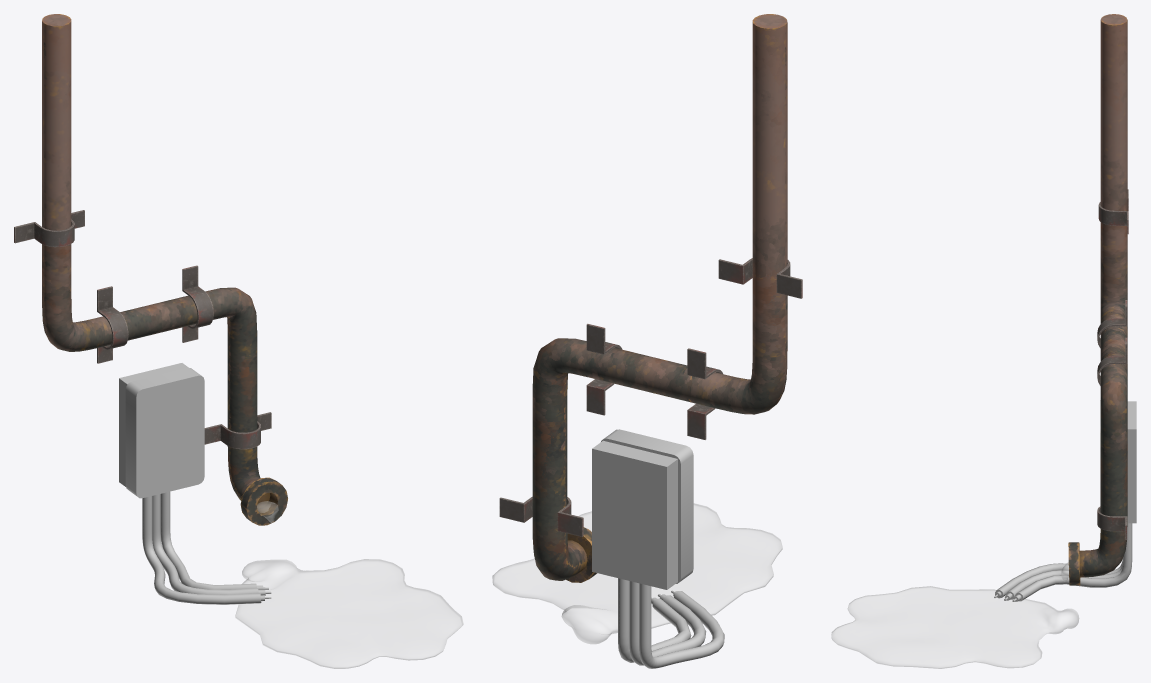
Rendered from Electricity.fbx.
3 views of the same model, side by side, from view 1: azimuth 30°, elevation 25°; view 2: azimuth 150°, elevation 25°; view 3: azimuth 270°, elevation 25° (orthographic). The views are drawn at different scales.
Parts seen in each view (by area): view 1: Cylinder.014, Retopo_Mball.036, Cube.009, NurbsPath, NurbsPath.001, NurbsPath.002, Plane.004, Plane.003, Plane.007, Plane.006; view 2: Cylinder.014, Cube.009, Retopo_Mball.036, NurbsPath, NurbsPath.001, NurbsPath.002, Plane.007, Plane.004, Plane.006, Plane.003; view 3: Cylinder.014, Retopo_Mball.036, NurbsPath.002, Cube.009, NurbsPath, NurbsPath.001, Plane.007, Plane.006.
Part boxes in pixels (<box>): Cylinder.014: <box>42,14,287,525</box>; Retopo_Mball.036: <box>235,501,463,668</box>; Cube.009: <box>119,363,204,498</box>; NurbsPath: <box>142,496,271,604</box>; NurbsPath.001: <box>152,494,271,595</box>; NurbsPath.002: <box>160,491,268,589</box>; Plane.004: <box>182,265,213,342</box>; Plane.003: <box>97,286,128,363</box>; Plane.007: <box>14,210,84,247</box>; Plane.006: <box>204,412,271,449</box>; Cylinder.014: <box>532,14,787,582</box>; Cube.009: <box>592,429,693,589</box>; Retopo_Mball.036: <box>492,503,782,644</box>; NurbsPath: <box>639,583,724,668</box>; NurbsPath.001: <box>629,581,706,665</box>; NurbsPath.002: <box>618,578,691,662</box>; Plane.007: <box>718,258,802,298</box>; Plane.004: <box>586,323,622,415</box>; Plane.006: <box>499,496,583,536</box>; Plane.003: <box>687,348,722,439</box>; Cylinder.014: <box>1068,14,1127,585</box>; Retopo_Mball.036: <box>831,562,1079,668</box>; NurbsPath.002: <box>1012,523,1132,601</box>; Cube.009: <box>1100,400,1136,523</box>; NurbsPath: <box>994,559,1122,598</box>; NurbsPath.001: <box>1004,563,1122,600</box>; Plane.007: <box>1098,189,1128,234</box>; Plane.006: <box>1097,506,1127,539</box>.
Bounding box in the file's own units: 55.11 × 95.54 × 49.84.
